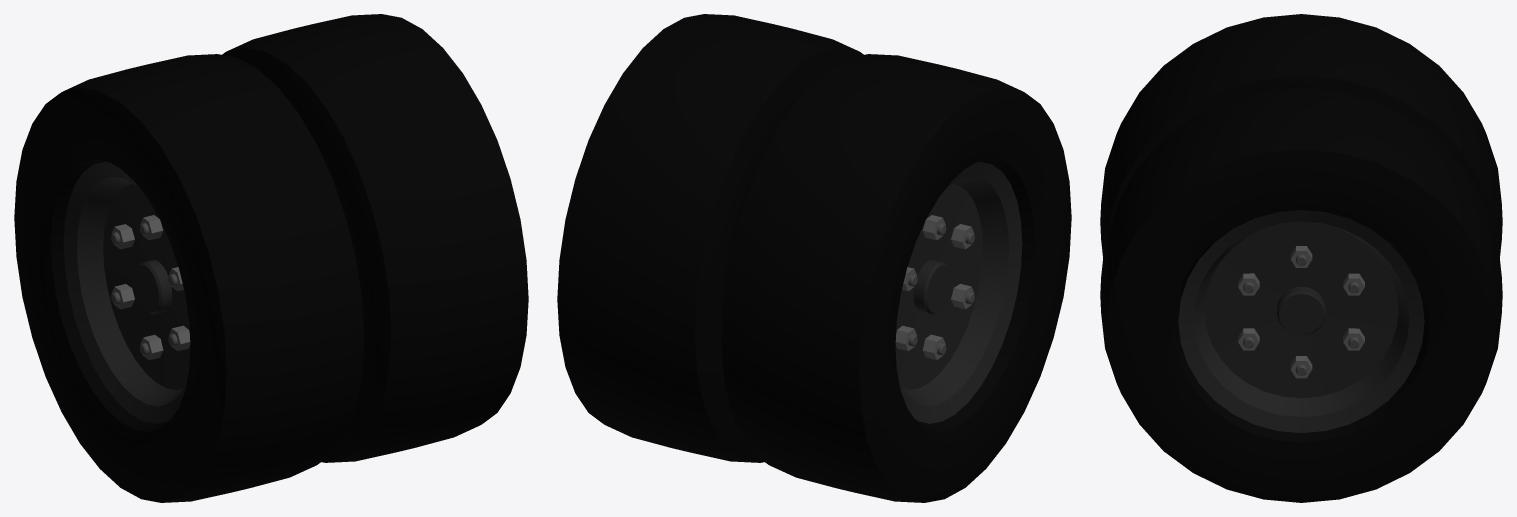
File: thrust_wheel.glb
3 renders of one model, left to right at view 1: azimuth 30°, elevation 25°; view 2: azimuth 150°, elevation 25°; view 3: azimuth 270°, elevation 25°, orthographic. The views are drawn at different scales.
Parts seen in each view (by area): view 1: WHEELREAR; view 2: WHEELREAR; view 3: WHEELREAR.
Boxes of the visible parts, <box> form: WHEELREAR: <box>14,14,528,502</box>; WHEELREAR: <box>557,14,1071,502</box>; WHEELREAR: <box>1100,14,1502,502</box>.
Size of the model in its own units: 0.3641 by 0.4401 by 0.4401.
1 material, 1 textured.
